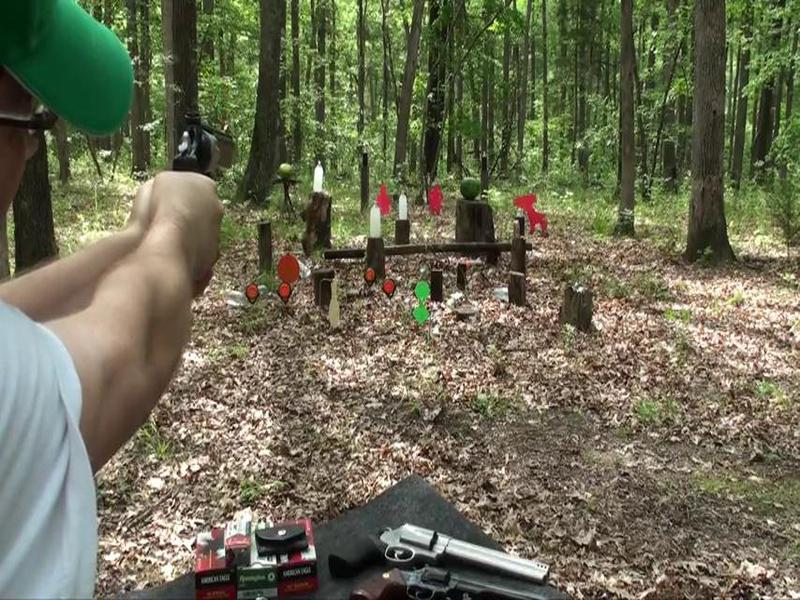Revolver: (155, 77, 260, 234)
